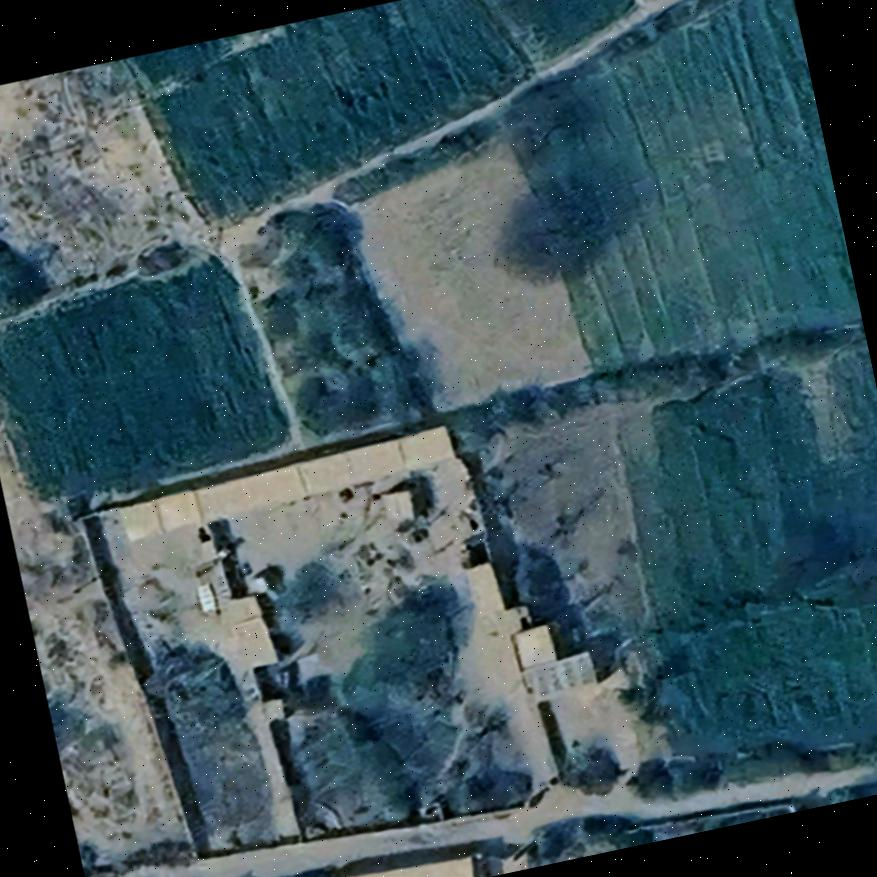Solarpanel: (524, 651, 594, 699), (194, 581, 219, 613)
